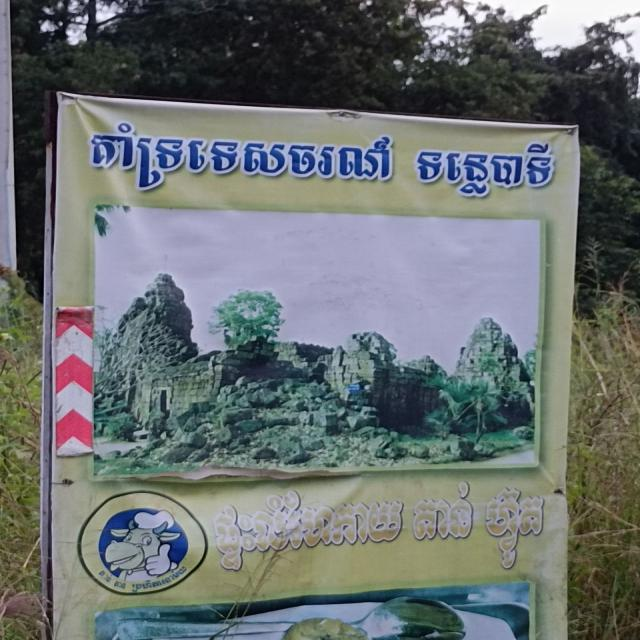1: (75, 114, 574, 203), (195, 478, 545, 596)
Yolov11kh: (129, 557, 196, 596)
